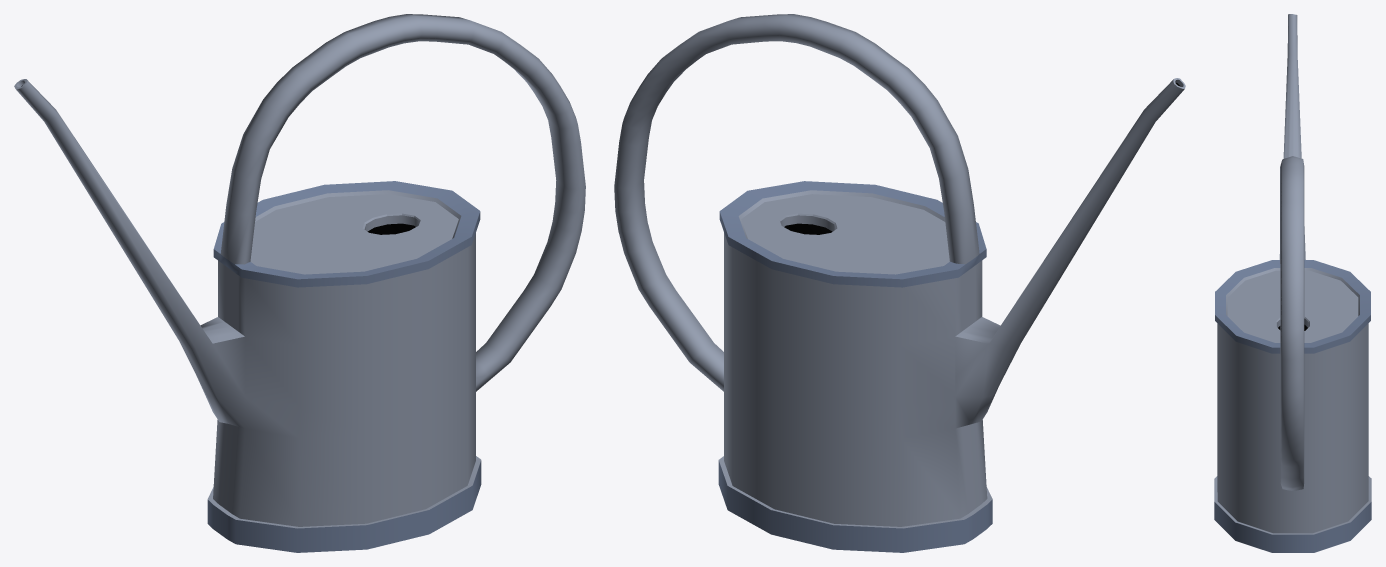
The model's file is watering can.fbx.
3 renders of one model, left to right at view 1: azimuth 30°, elevation 25°; view 2: azimuth 150°, elevation 25°; view 3: azimuth 270°, elevation 25°, orthographic. The views are drawn at different scales.
Visible parts, largest first — view 1: Cylinder.001; view 2: Cylinder.001; view 3: Cylinder.001.
Boxes of the visible parts, box(x1,y1,x2,y2) form: Cylinder.001: box(14, 14, 585, 552); Cylinder.001: box(614, 14, 1185, 552); Cylinder.001: box(1214, 14, 1371, 552).
Bounding box in the file's own units: 55.18 × 46.62 × 17.63.
